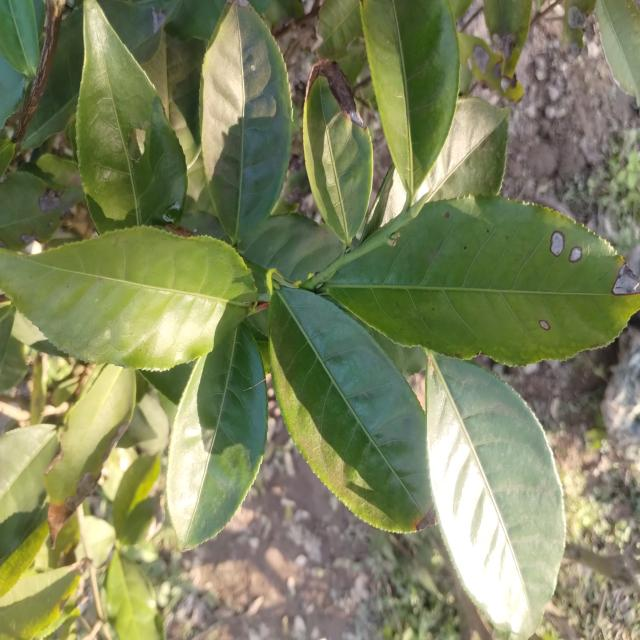Leaf: (325, 197, 640, 365), (269, 285, 435, 532), (426, 352, 565, 638), (0, 226, 256, 370), (76, 0, 187, 234), (200, 0, 292, 243), (167, 325, 267, 548), (360, 0, 460, 196), (45, 364, 136, 545), (303, 59, 373, 245), (413, 97, 510, 202), (22, 4, 84, 148), (237, 213, 344, 291), (0, 424, 58, 560), (0, 561, 84, 640), (0, 172, 81, 250), (106, 550, 164, 640), (97, 0, 177, 63), (595, 0, 640, 108), (458, 32, 523, 102), (483, 0, 532, 78), (114, 455, 160, 537), (361, 165, 405, 241), (0, 0, 39, 78), (368, 328, 425, 377), (316, 0, 363, 58), (168, 0, 227, 41), (0, 306, 26, 394), (118, 497, 162, 545), (562, 0, 596, 57), (249, 0, 304, 25), (249, 310, 268, 340)
